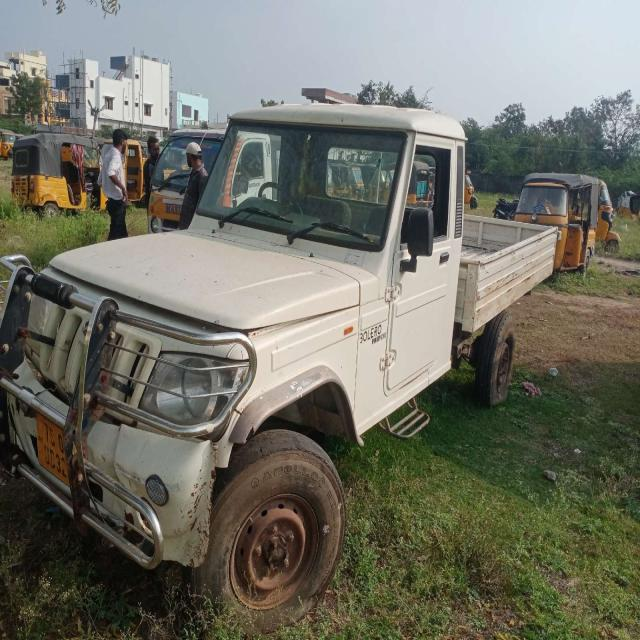light_vehicle: (6, 114, 458, 498)
